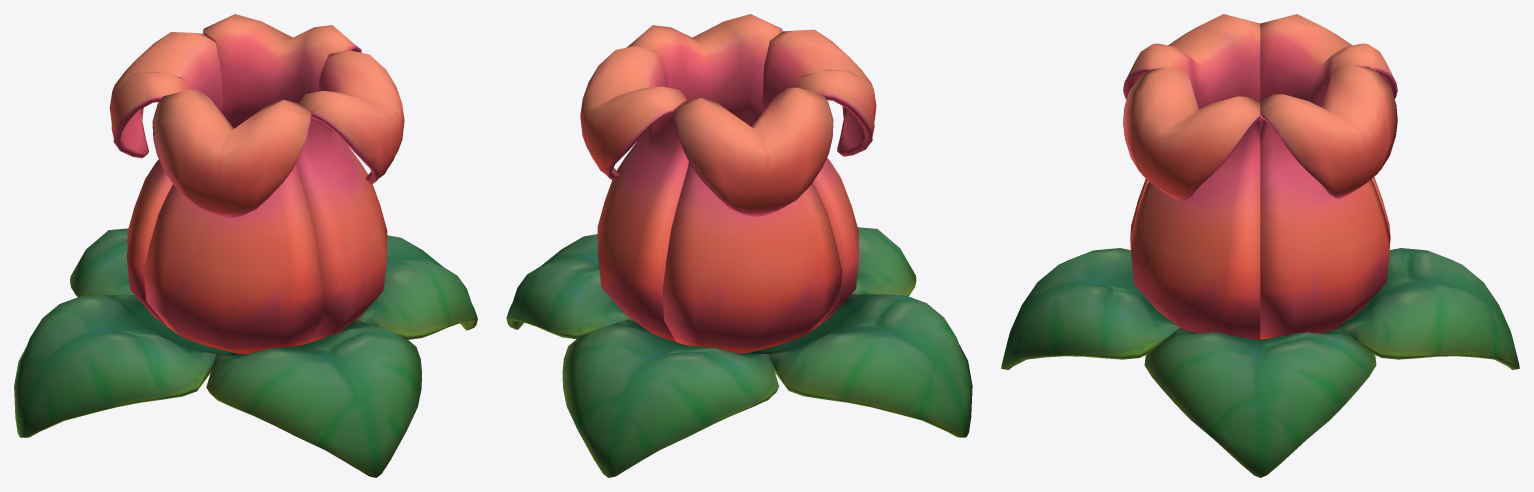
The model's file is PullingFlower_disappear.fbx.
3 views of the same model, side by side, from view 1: azimuth 30°, elevation 25°; view 2: azimuth 150°, elevation 25°; view 3: azimuth 270°, elevation 25° (orthographic).
Parts seen in each view (by area): view 1: CoinFlower.005, CoinFlower.006, CoinFlower.009, CoinFlower.008, CoinFlower.002, CoinFlower.007, CoinFlower.010, CoinFlower.004; view 2: CoinFlower.002, CoinFlower.007, CoinFlower.004, CoinFlower.008, CoinFlower.005, CoinFlower.006, CoinFlower.010, CoinFlower.009; view 3: CoinFlower.007, CoinFlower.006, CoinFlower.010, CoinFlower.004, CoinFlower.009, CoinFlower.005, CoinFlower.002.
Boxes of the visible parts, x1,y1,x2,y2 form: CoinFlower.005: (144, 89, 322, 353); CoinFlower.006: (296, 50, 404, 343); CoinFlower.009: (206, 320, 421, 477); CoinFlower.008: (14, 295, 232, 437); CoinFlower.002: (109, 32, 223, 325); CoinFlower.007: (203, 14, 361, 128); CoinFlower.010: (355, 235, 477, 339); CoinFlower.004: (70, 228, 134, 297); CoinFlower.002: (662, 87, 842, 353); CoinFlower.007: (580, 46, 688, 341); CoinFlower.004: (562, 319, 779, 477); CoinFlower.008: (753, 294, 972, 437); CoinFlower.005: (762, 29, 876, 325); CoinFlower.006: (626, 14, 782, 126); CoinFlower.010: (506, 234, 635, 339); CoinFlower.009: (851, 227, 916, 296); CoinFlower.007: (1260, 65, 1397, 339); CoinFlower.006: (1123, 67, 1260, 339); CoinFlower.010: (1144, 328, 1376, 477); CoinFlower.004: (1336, 248, 1519, 369); CoinFlower.009: (1001, 248, 1180, 369); CoinFlower.005: (1123, 14, 1260, 237); CoinFlower.002: (1260, 14, 1397, 238).
Bounding box in the file's own units: 4.19 × 2.85 × 4.19.
